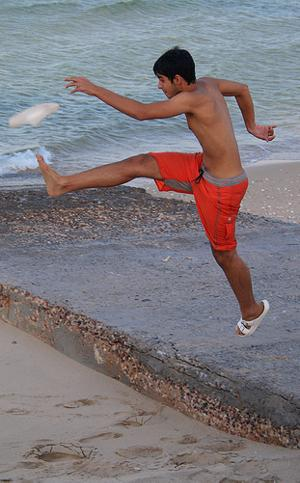person: (39, 43, 275, 345)
